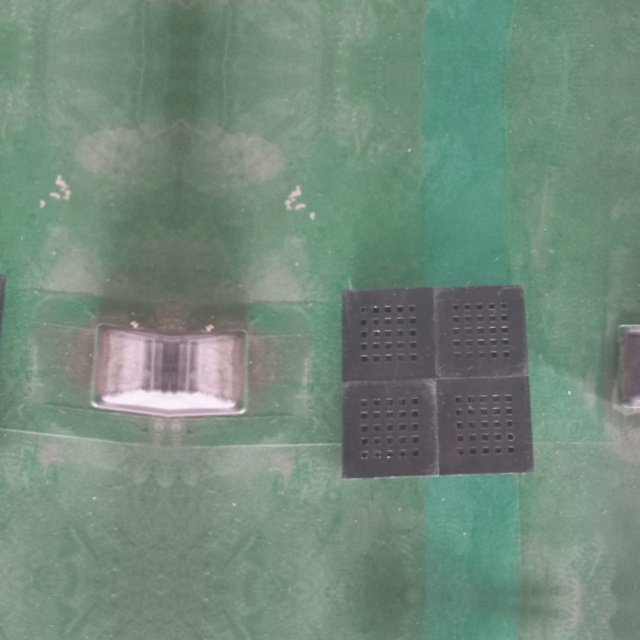pallet: (336, 282, 539, 482)
